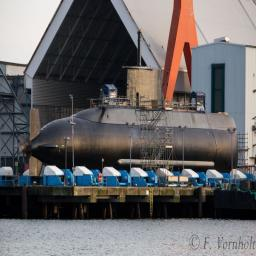submarine: (16, 67, 240, 171)
